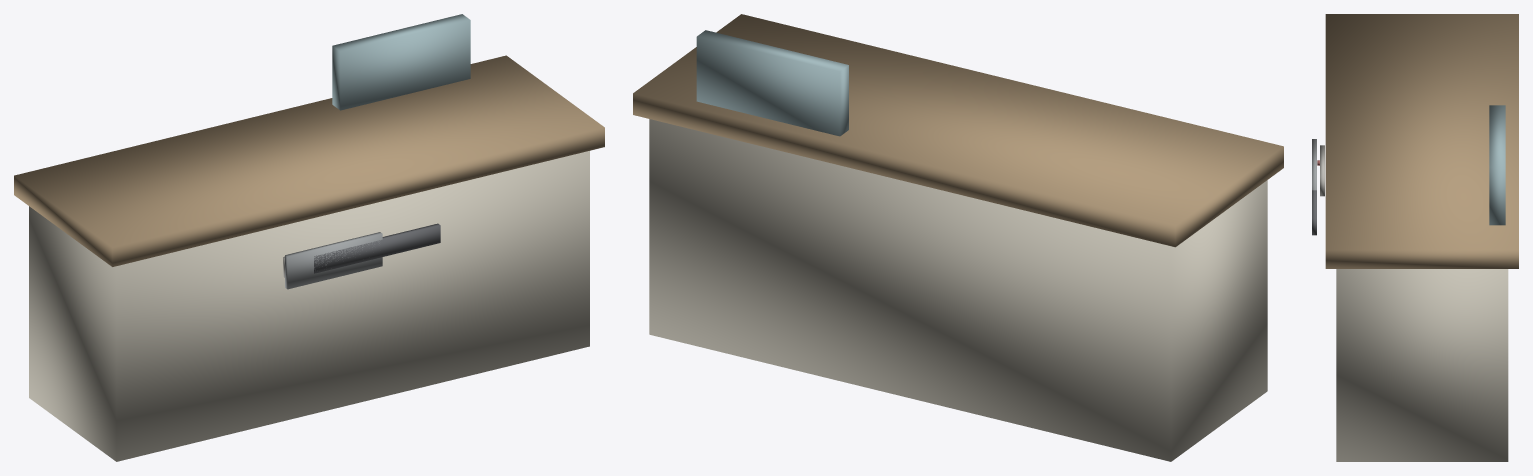
The model's file is post_office_counter__weathered.glb.
3 renders of one model, left to right at view 1: azimuth 30°, elevation 25°; view 2: azimuth 150°, elevation 25°; view 3: azimuth 270°, elevation 25°, orthographic. The views are drawn at different scales.
Parts seen in each view (by area): view 1: world; view 2: world; view 3: world.
Part boxes in pixels (x1,y1,x2,y2): world: [14, 14, 604, 461]; world: [633, 14, 1283, 461]; world: [1312, 14, 1518, 461].
Bounding box in the file's own units: 2.08 × 1.13 × 0.7709.
